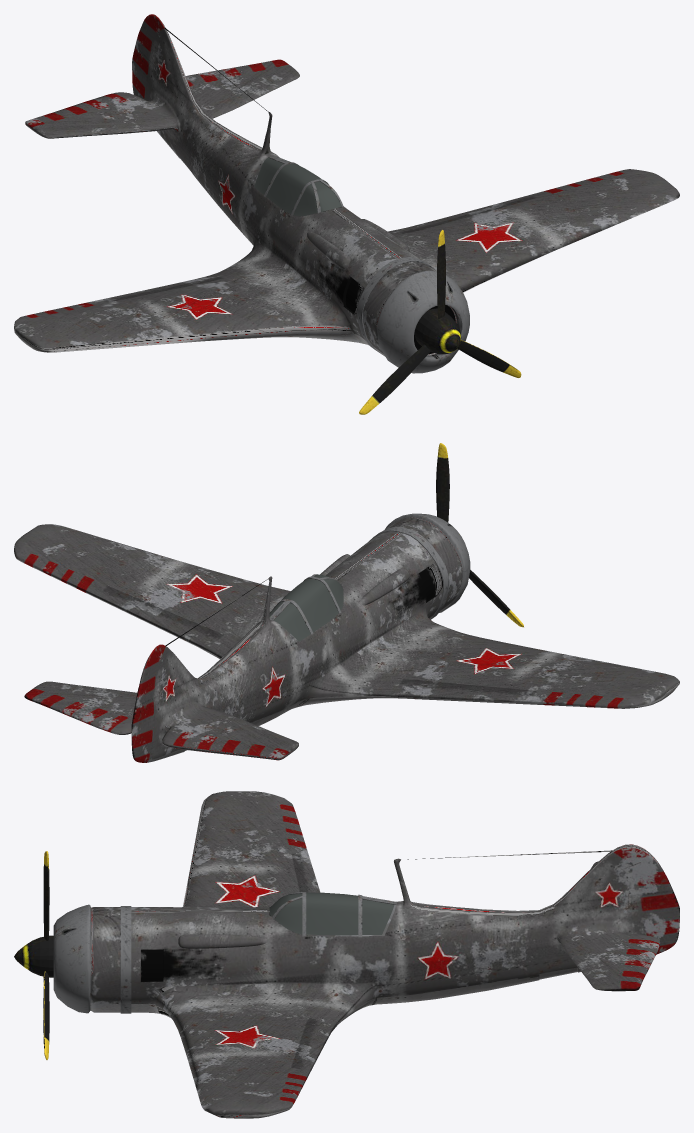
The model's file is wwii-soviet-plane.fbx.
3 renders of one model, top to bottom at view 1: azimuth 30°, elevation 25°; view 2: azimuth 150°, elevation 25°; view 3: azimuth 270°, elevation 25°, orthographic. The views are drawn at different scales.
Visible parts, largest first — view 1: wwii_soviet_plane2; view 2: wwii_soviet_plane2; view 3: wwii_soviet_plane2.
Boxes of the visible parts, box(x1,y1,x2,y2) form: wwii_soviet_plane2: box(14, 14, 679, 414); wwii_soviet_plane2: box(14, 443, 679, 762); wwii_soviet_plane2: box(14, 791, 679, 1118).
Size of the model in its own units: 13.23 by 3.41 by 11.63.
Materials: 3 (2 with a texture image).
